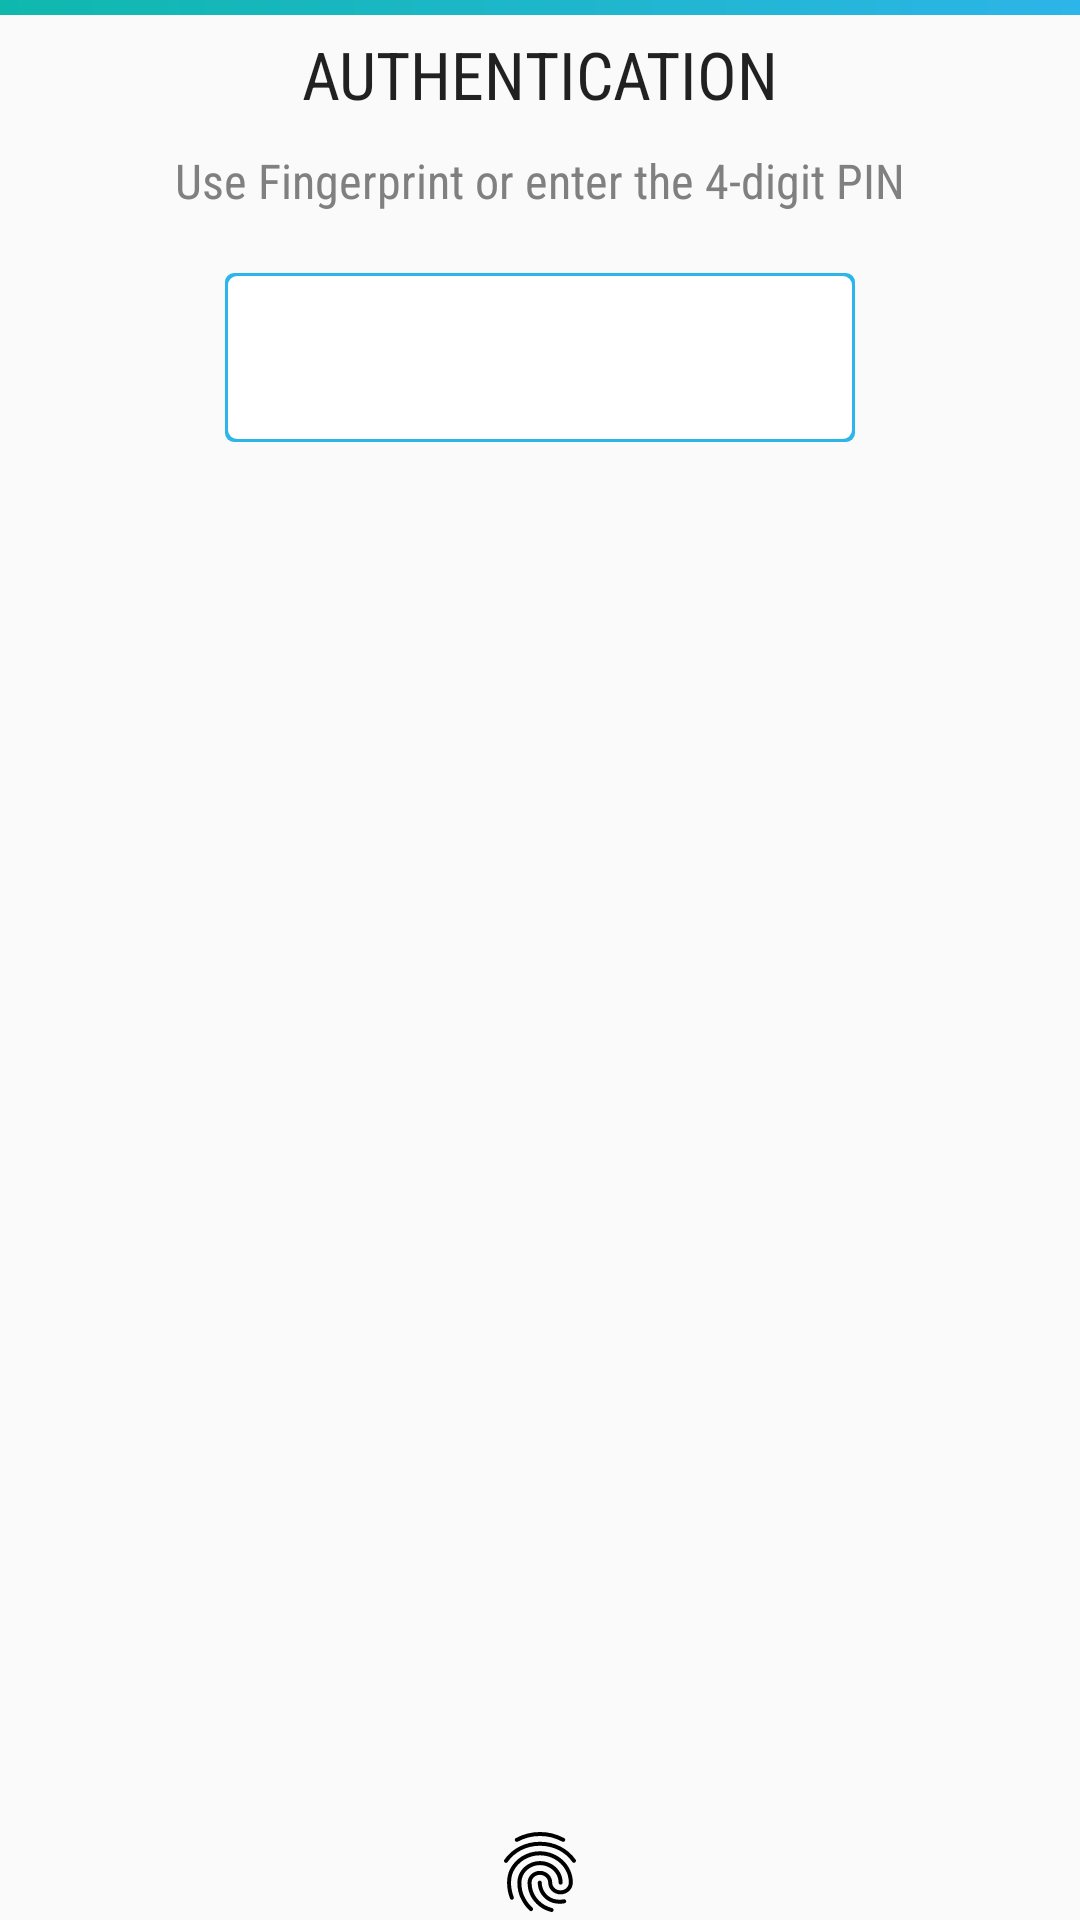

Named icons in this screenshot (1080×1920) and their bounding boxes, (x1, y1, x2, y2):
fingerprint: (504, 1832, 576, 1912)
